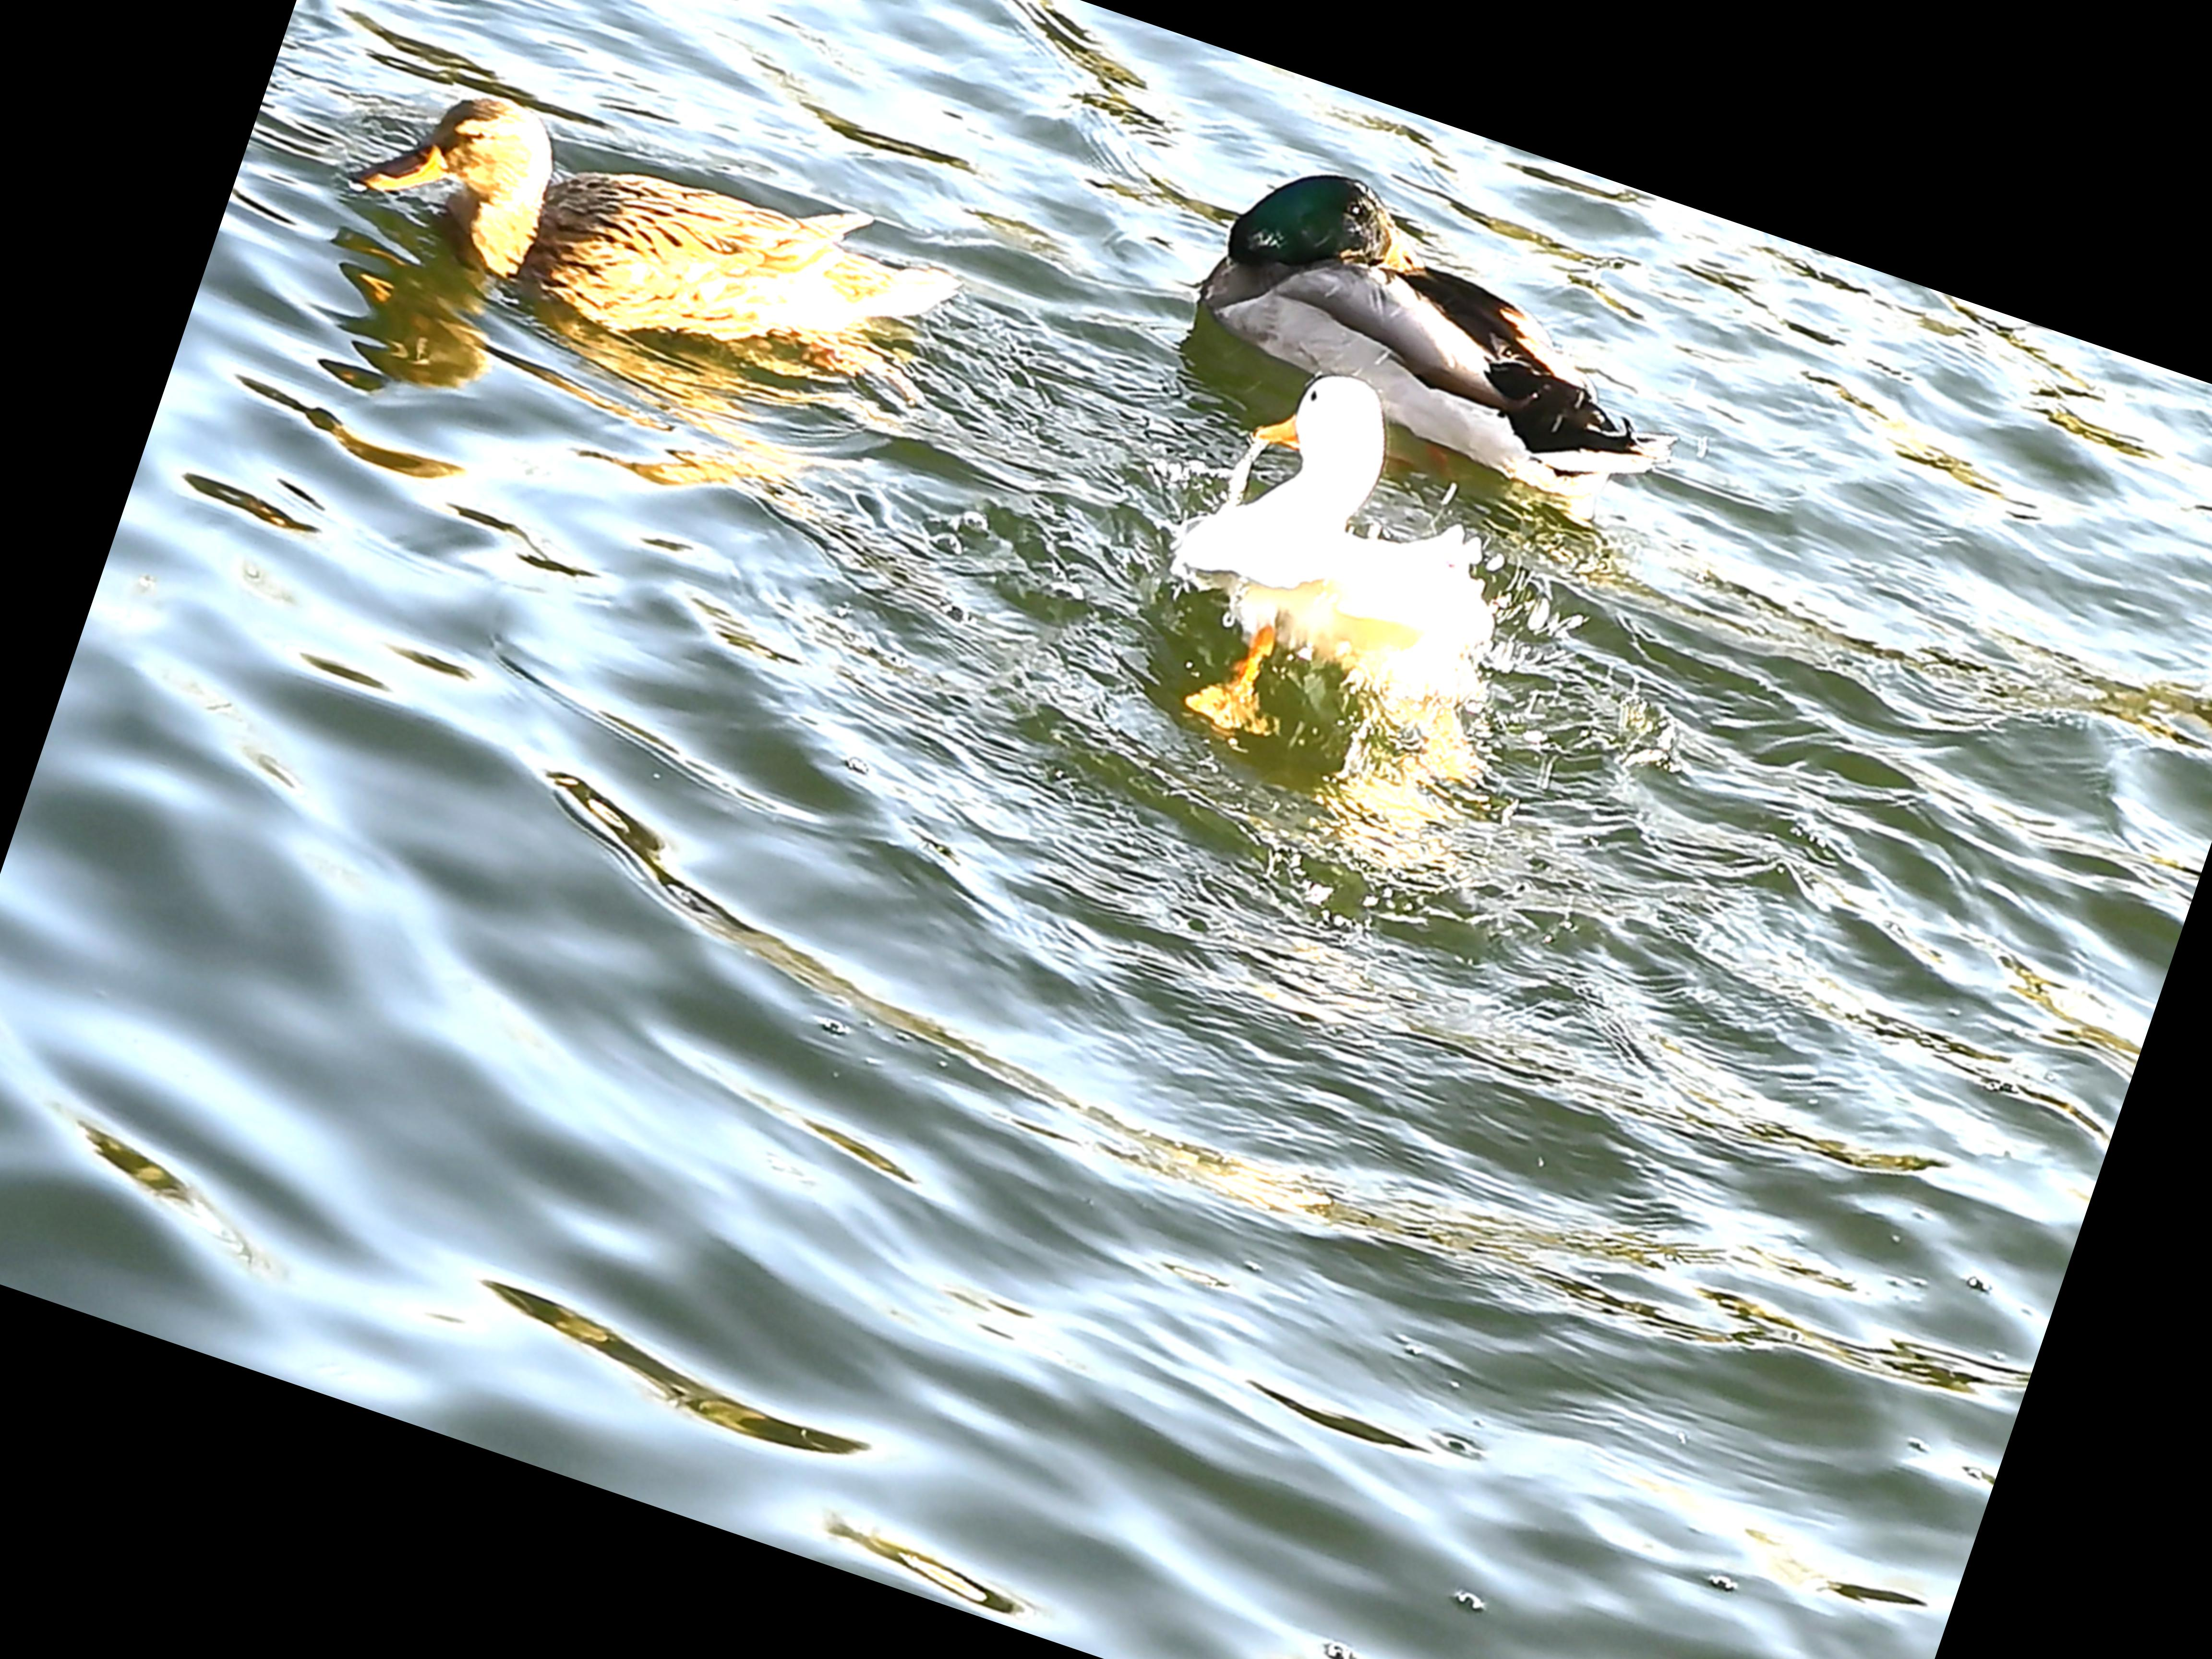duck: (284, 0, 1007, 491), (1106, 331, 1620, 847), (1155, 134, 1719, 532)
